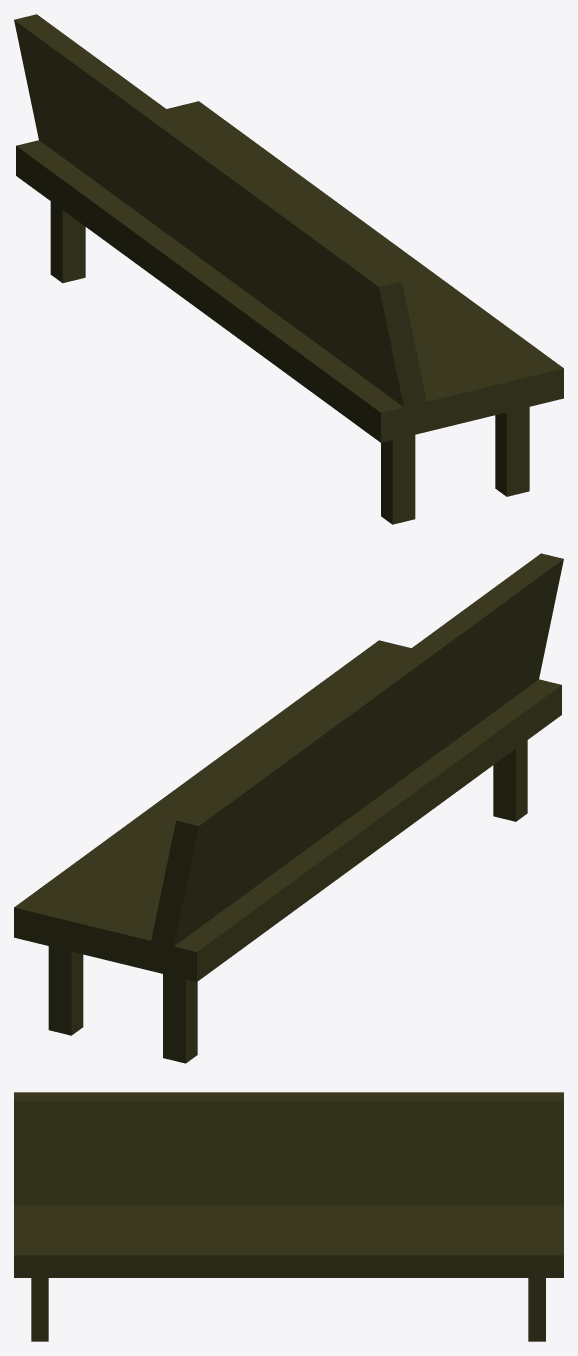
File: Bench.gltf
3 views of the same model, one above another, from view 1: azimuth 30°, elevation 25°; view 2: azimuth 150°, elevation 25°; view 3: azimuth 270°, elevation 25° (orthographic). The views are drawn at different scales.
Visible parts, largest first — view 1: Cube; view 2: Cube; view 3: Cube.
Boxes of the visible parts, left/top/right/bottom form: Cube: left=14, top=14, right=563, bottom=524; Cube: left=14, top=553, right=563, bottom=1063; Cube: left=14, top=1092, right=563, bottom=1341.
Bounding box in the file's own units: 2.02 × 2.64 × 6.92.
